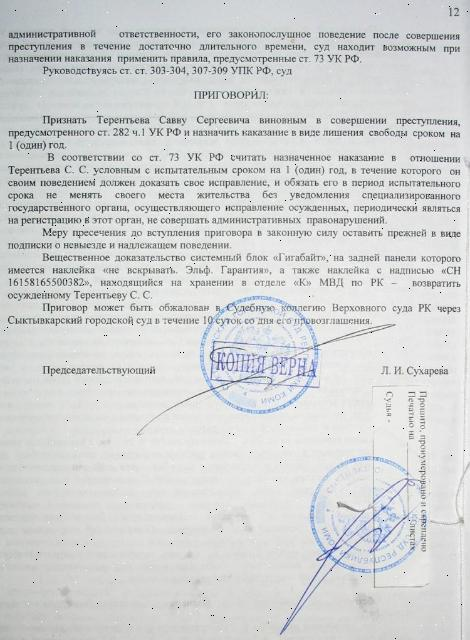stamp: (309, 455, 425, 571), (200, 298, 318, 412)
